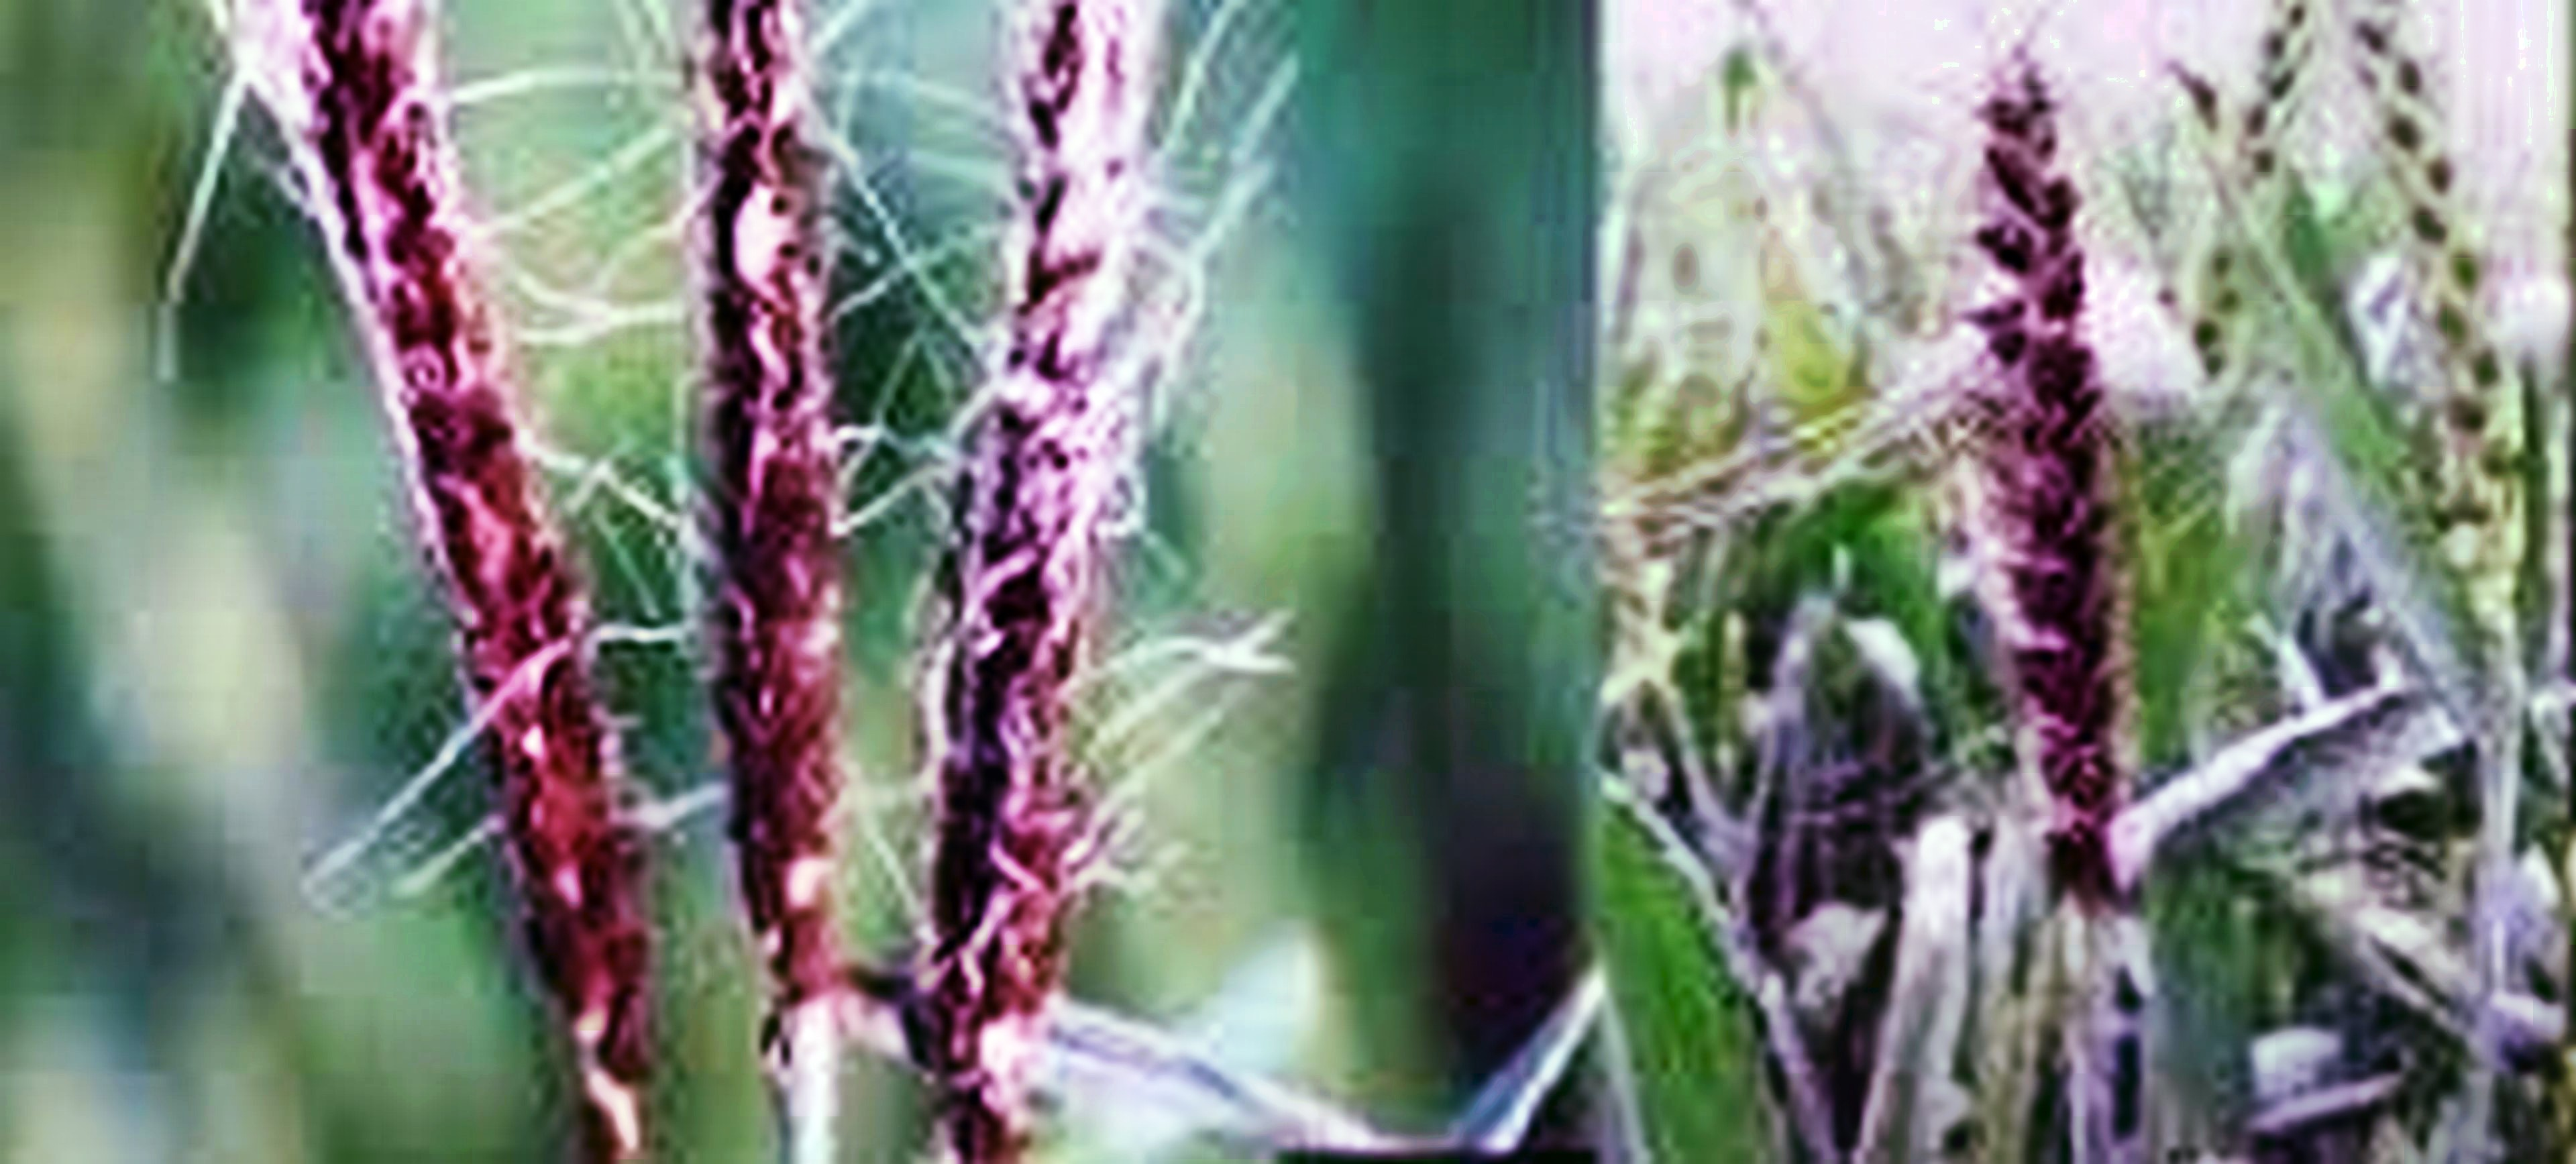Wheat Loose Smut: (287, 12, 1163, 1039)
